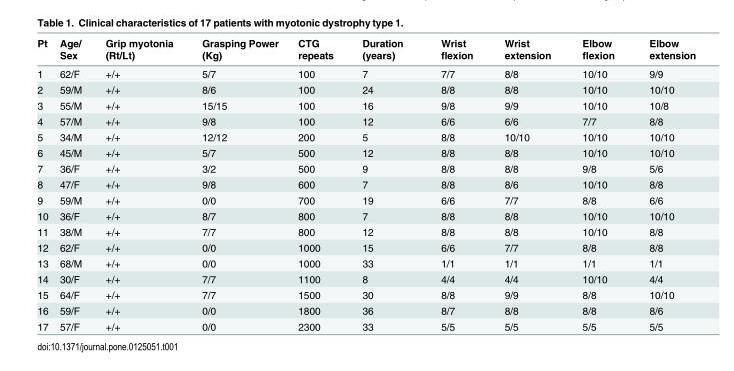table: (36, 36, 695, 331)
table column: (186, 36, 287, 331), (92, 36, 186, 331), (488, 36, 563, 331), (347, 36, 419, 331), (419, 36, 488, 331), (563, 36, 631, 331), (631, 36, 695, 331), (287, 36, 347, 331), (53, 36, 92, 331), (36, 36, 53, 331)
table column header: (36, 36, 695, 64)
table row: (36, 36, 695, 64), (36, 64, 695, 81), (36, 81, 695, 97), (36, 112, 695, 128), (36, 128, 695, 144), (36, 144, 695, 160), (36, 160, 695, 176), (36, 191, 695, 207), (36, 207, 695, 223), (36, 223, 695, 239), (36, 239, 695, 255), (36, 270, 695, 286), (36, 286, 695, 302), (36, 302, 695, 318), (36, 97, 695, 112), (36, 176, 695, 191), (36, 255, 695, 270), (36, 318, 695, 331)
